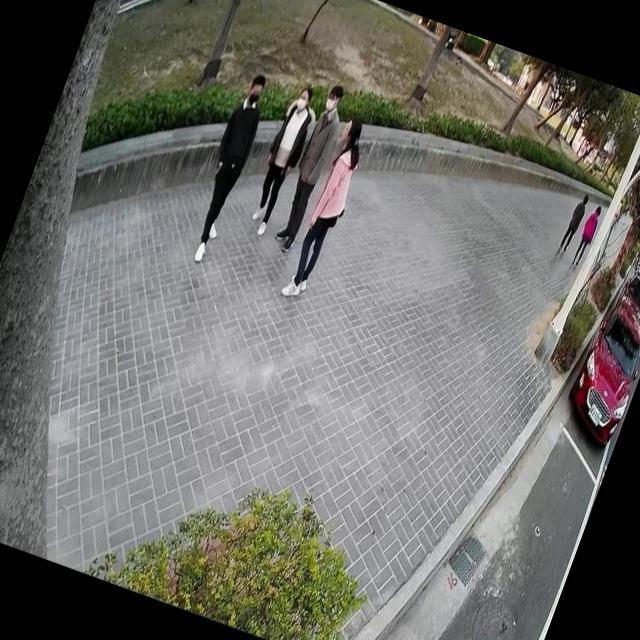person: (176, 65, 279, 269), (276, 108, 378, 307), (267, 78, 356, 260), (238, 77, 326, 240), (566, 196, 608, 276), (552, 185, 594, 261)
